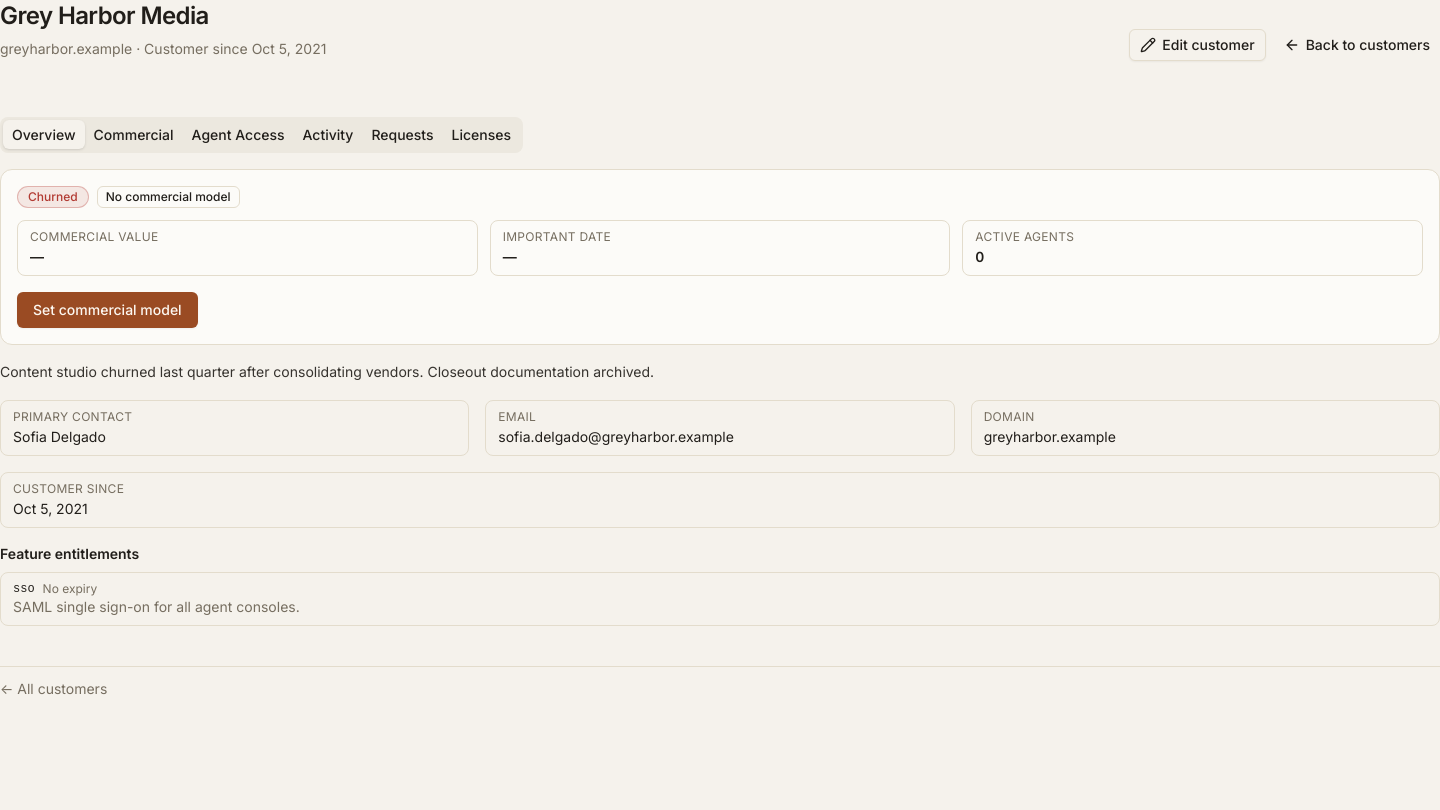
it: CustomerProfilePage › opens the commercial drawer from the Overview primary action
The width and height of the screenshot is (1440, 810).
Click the button with test id "overview-commercial-action".
click(107, 310)  # box [17,292,198,328]
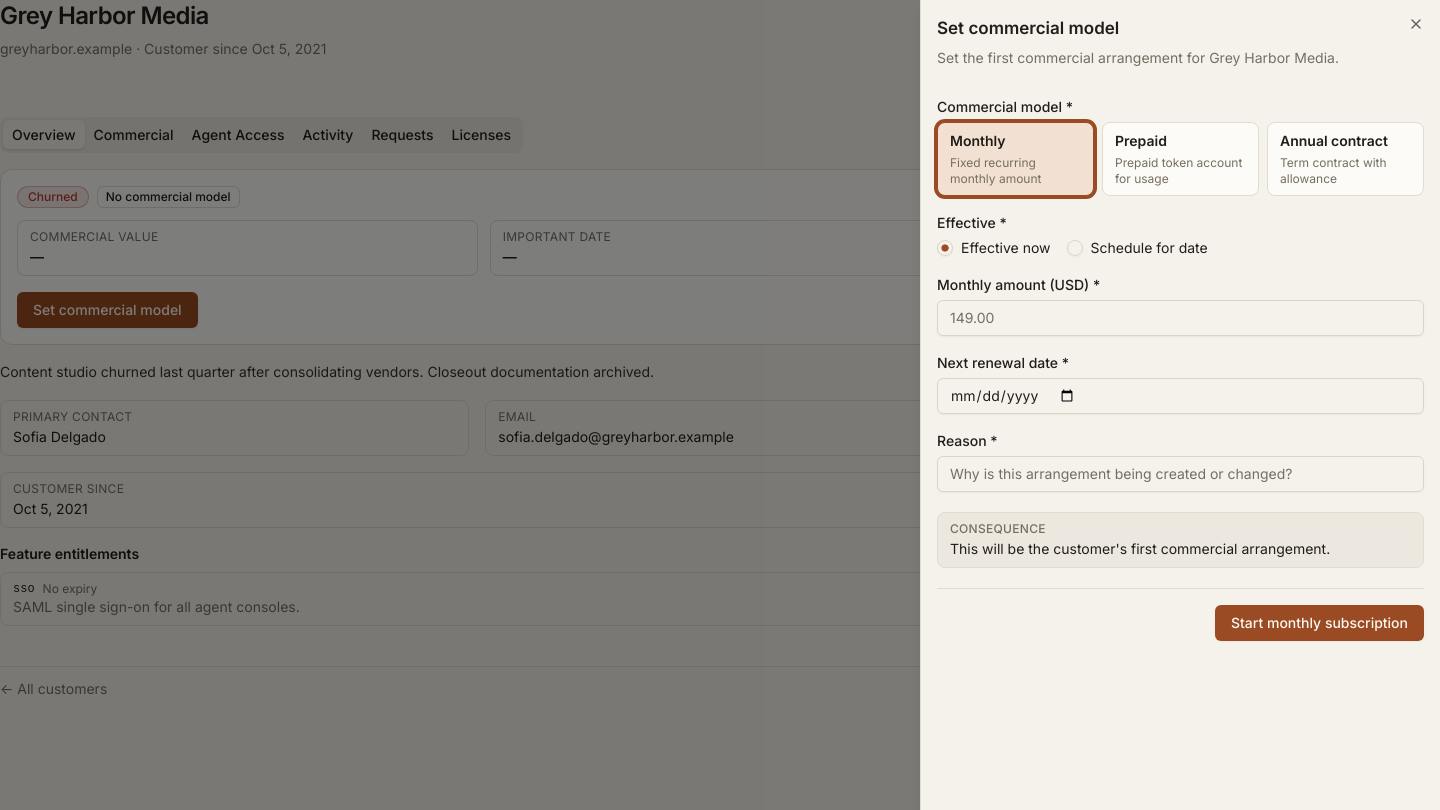
Expected: the heading "Set commercial model" is shown, [937,18,1119,38]
